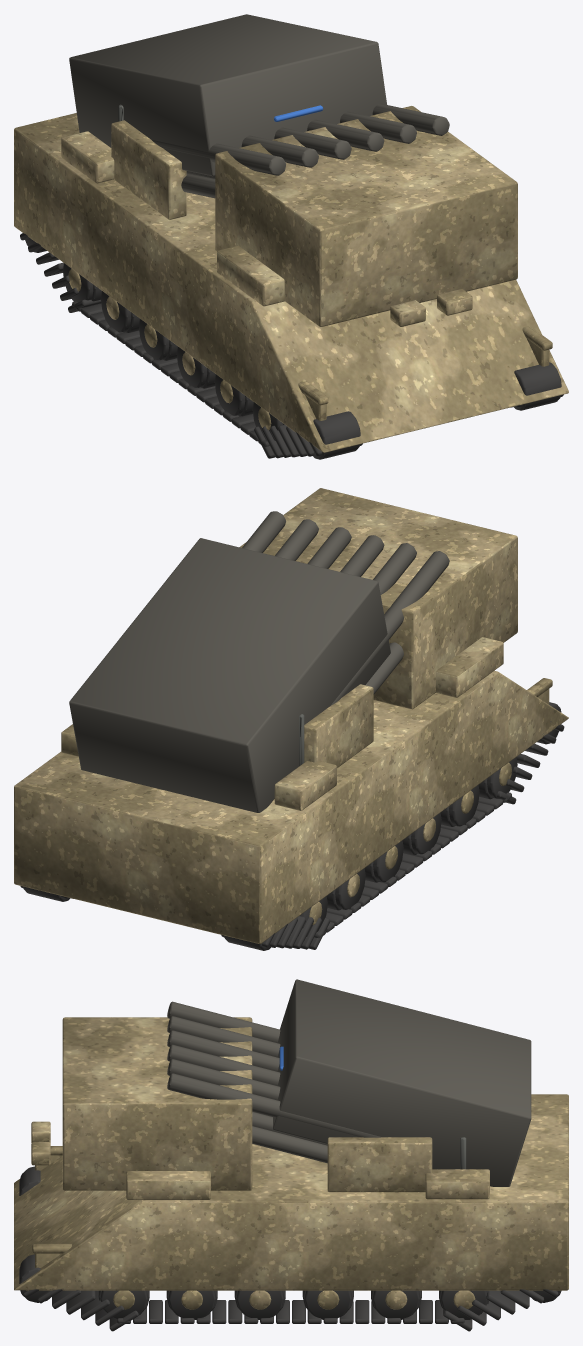
File: art_e4_us_mlrs_LOD0.glb
3 renders of one model, top to bottom at view 1: azimuth 30°, elevation 25°; view 2: azimuth 150°, elevation 25°; view 3: azimuth 270°, elevation 25°, orthographic. The views are drawn at different scales.
Visible parts, largest first — view 1: art_e4_us_mlrs_LOD0_body, art_e4_us_mlrs_LOD0_deck, art_e4_us_mlrs_LOD0_track; view 2: art_e4_us_mlrs_LOD0_body, art_e4_us_mlrs_LOD0_deck, art_e4_us_mlrs_LOD0_track; view 3: art_e4_us_mlrs_LOD0_body, art_e4_us_mlrs_LOD0_deck, art_e4_us_mlrs_LOD0_track.
Part boxes in pixels (x1=…): art_e4_us_mlrs_LOD0_body: x1=14, y1=106, x2=568, y2=452; art_e4_us_mlrs_LOD0_deck: x1=69, y1=14, x2=449, y2=198; art_e4_us_mlrs_LOD0_track: x1=20, y1=233, x2=563, y2=459; art_e4_us_mlrs_LOD0_body: x1=14, y1=488, x2=568, y2=943; art_e4_us_mlrs_LOD0_deck: x1=69, y1=511, x2=449, y2=812; art_e4_us_mlrs_LOD0_track: x1=20, y1=702, x2=564, y2=950; art_e4_us_mlrs_LOD0_body: x1=14, y1=1017, x2=568, y2=1309; art_e4_us_mlrs_LOD0_deck: x1=167, y1=979, x2=531, y2=1186; art_e4_us_mlrs_LOD0_track: x1=19, y1=1166, x2=561, y2=1331.
Size of the model in its own units: 3.18 by 3.56 by 6.89.
5 materials, 1 textured.
